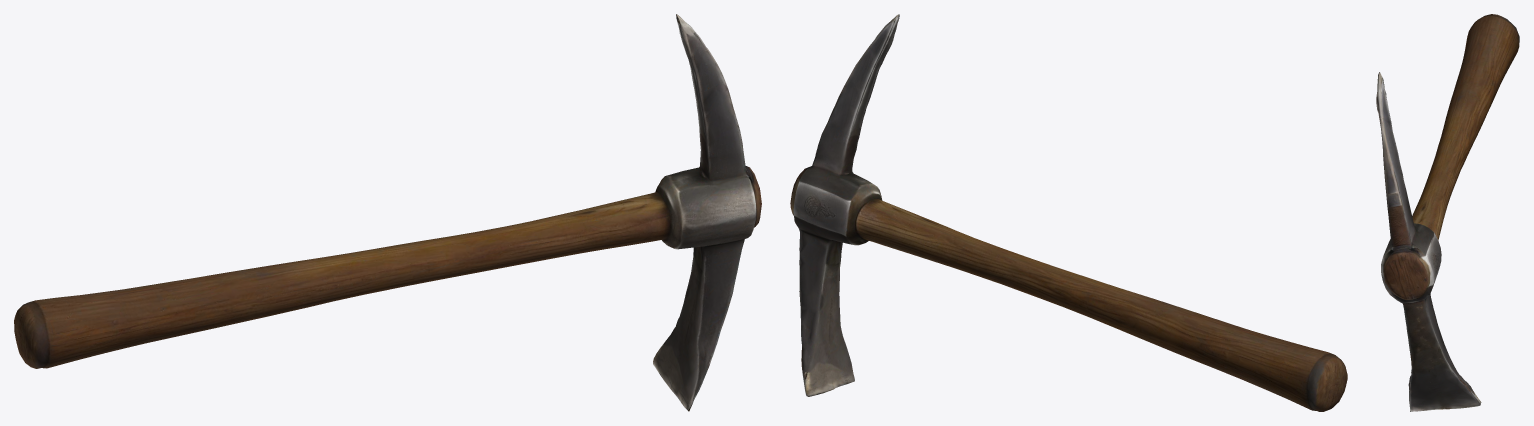
The model's file is iron_pickaxe.glb.
3 views of the same model, side by side, from view 1: azimuth 30°, elevation 25°; view 2: azimuth 150°, elevation 25°; view 3: azimuth 270°, elevation 25° (orthographic). The views are drawn at different scales.
Visible parts, largest first — view 1: Mesh_0; view 2: Mesh_0; view 3: Mesh_0.
Part boxes in pixels (x1=…): Mesh_0: x1=14, y1=14, x2=761, y2=411; Mesh_0: x1=790, y1=14, x2=1347, y2=411; Mesh_0: x1=1376, y1=14, x2=1519, y2=411.
Bounding box in the file's own units: 0.7638 × 0.4518 × 0.1793.
1 material, 1 textured.
